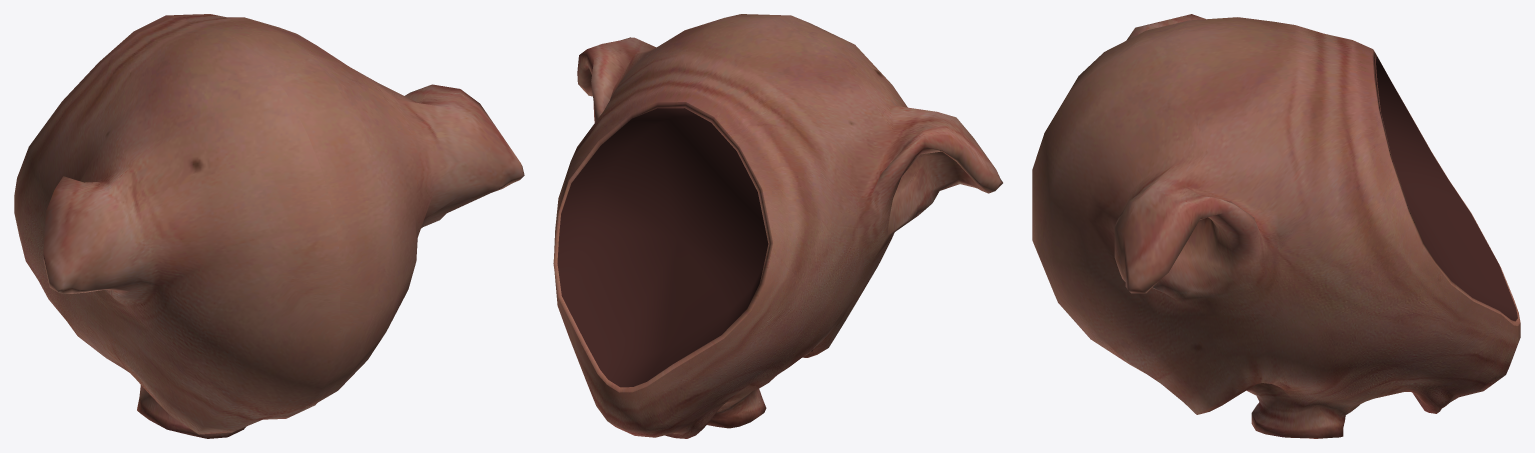
3 views of the same model, side by side, from view 1: azimuth 30°, elevation 25°; view 2: azimuth 150°, elevation 25°; view 3: azimuth 270°, elevation 25° (orthographic). The views are drawn at different scales.
Parts seen in each view (by area): view 1: berd_001_u_high_1.005; view 2: berd_001_u_high_1.005; view 3: berd_001_u_high_1.005.
Boxes of the visible parts, bbox=[...] form: berd_001_u_high_1.005: bbox=[14, 14, 524, 438]; berd_001_u_high_1.005: bbox=[553, 14, 1002, 438]; berd_001_u_high_1.005: bbox=[1032, 14, 1520, 438].
Bounding box in the file's own units: 0.3042 × 0.251 × 0.2783.
1 material, 1 textured.
